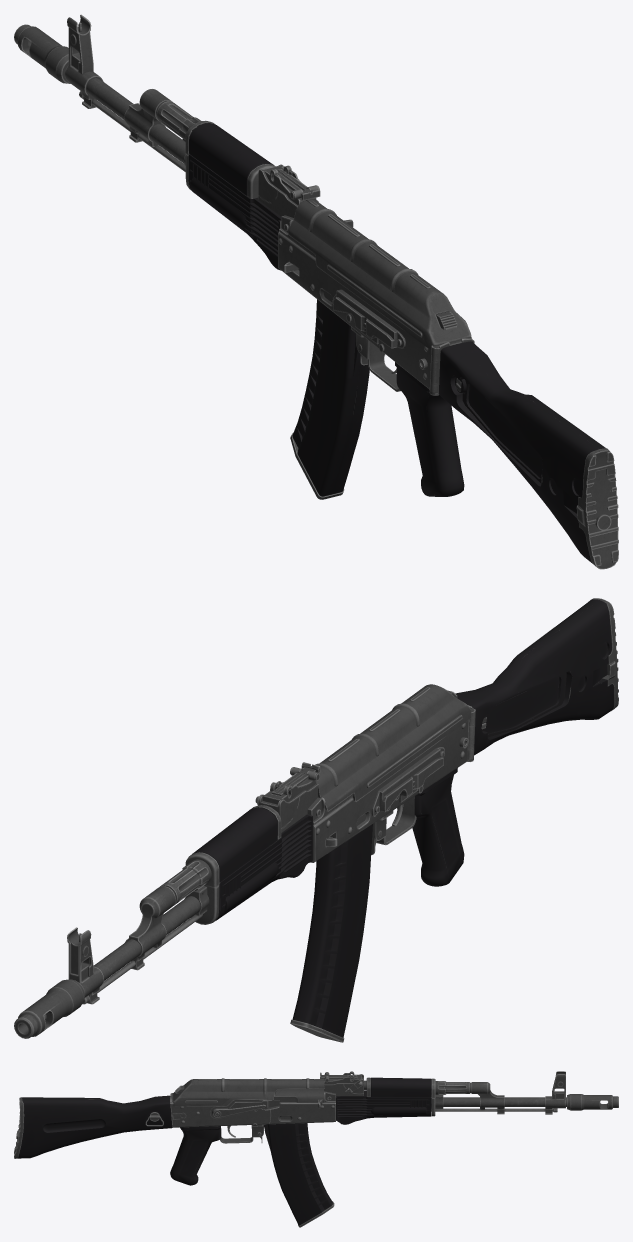
The picture shows the model from 3 angles, top to bottom: view 1: azimuth 30°, elevation 25°; view 2: azimuth 150°, elevation 25°; view 3: azimuth 270°, elevation 25°; orthographic projection. The views are drawn at different scales.
Parts seen in each view (by area): view 1: Stock_low_0, Dust_cover_low_21, Magazine_low_16, Barrel_low_17, Grip_low_4, Receiver_low_3, Stock_plate_low_1, Handguard_low_14, Gas_block_low_18, Handguard_up_low_15, Dovetail_low_25, Rear_Sight_Block_low_10 (+1 smaller); view 2: Stock_low_0, Magazine_low_16, Dust_cover_low_21, Barrel_low_17, Receiver_low_3, Gas_block_low_18, Grip_low_4, Handguard_low_14, Handguard_up_low_15, Dovetail_low_25, Rear_Sight_Block_low_10, Trigger_guard_low_7 (+2 smaller); view 3: Stock_low_0, Magazine_low_16, Receiver_low_3, Dust_cover_low_21, Barrel_low_17, Handguard_low_14, Grip_low_4, Gas_block_low_18, Handguard_up_low_15, Fire_Selector_low_22, Bolt_low_9, Rear_Sight_Block_low_10 (+3 smaller).
Boxes of the visible parts, x1,y1,x2,y2 form: Stock_low_0: (430, 341, 605, 563); Dust_cover_low_21: (287, 199, 471, 350); Magazine_low_16: (290, 299, 369, 499); Barrel_low_17: (14, 14, 185, 165); Grip_low_4: (395, 362, 464, 496); Receiver_low_3: (278, 231, 474, 395); Stock_plate_low_1: (576, 448, 618, 569); Handguard_low_14: (188, 154, 281, 270); Gas_block_low_18: (124, 89, 275, 198); Handguard_up_low_15: (189, 123, 274, 195); Dovetail_low_25: (332, 289, 405, 348); Rear_Sight_Block_low_10: (258, 164, 318, 217); Stock_low_0: (455, 599, 614, 755); Magazine_low_16: (290, 824, 372, 1042); Dust_cover_low_21: (315, 684, 471, 811); Barrel_low_17: (14, 886, 209, 1038); Receiver_low_3: (311, 705, 475, 862); Gas_block_low_18: (125, 805, 281, 970); Grip_low_4: (397, 768, 464, 886); Handguard_low_14: (216, 814, 312, 920); Handguard_up_low_15: (192, 807, 277, 882); Dovetail_low_25: (371, 747, 444, 816); Rear_Sight_Block_low_10: (258, 779, 318, 832); Trigger_guard_low_7: (373, 796, 416, 845); Stock_low_0: (18, 1095, 172, 1158); Magazine_low_16: (263, 1123, 334, 1227); Receiver_low_3: (170, 1093, 335, 1127); Dust_cover_low_21: (173, 1078, 324, 1106); Barrel_low_17: (431, 1071, 618, 1114); Handguard_low_14: (336, 1090, 431, 1124); Grip_low_4: (170, 1126, 221, 1185); Gas_block_low_18: (364, 1077, 504, 1116); Handguard_up_low_15: (370, 1077, 431, 1096); Fire_Selector_low_22: (210, 1100, 279, 1119); Bolt_low_9: (274, 1089, 324, 1108); Rear_Sight_Block_low_10: (324, 1071, 363, 1095).
Size of the model in its own units: 0.6202 by 2.6 by 9.37.
Materials: 1 (1 with a texture image).
